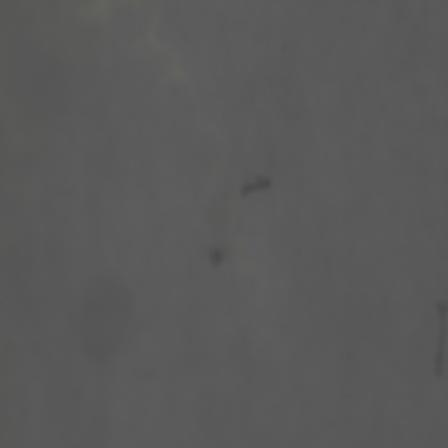Jentik-Nyamuk: (233, 166, 275, 207)
